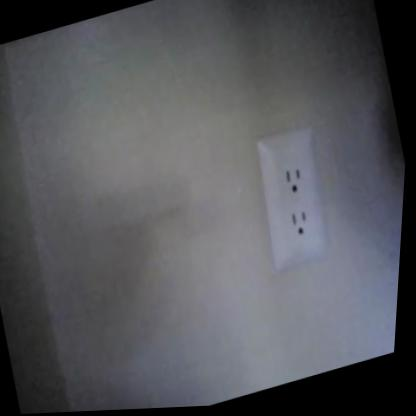OUTLET: (244, 123, 344, 275)
